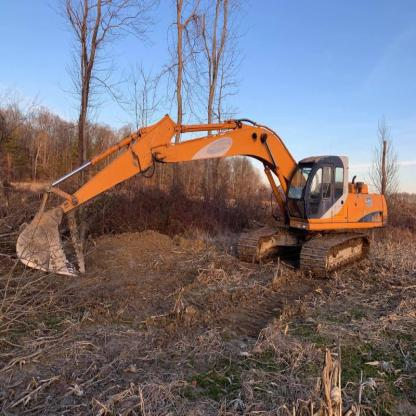excavator: (13, 98, 398, 321), (19, 105, 240, 288)
